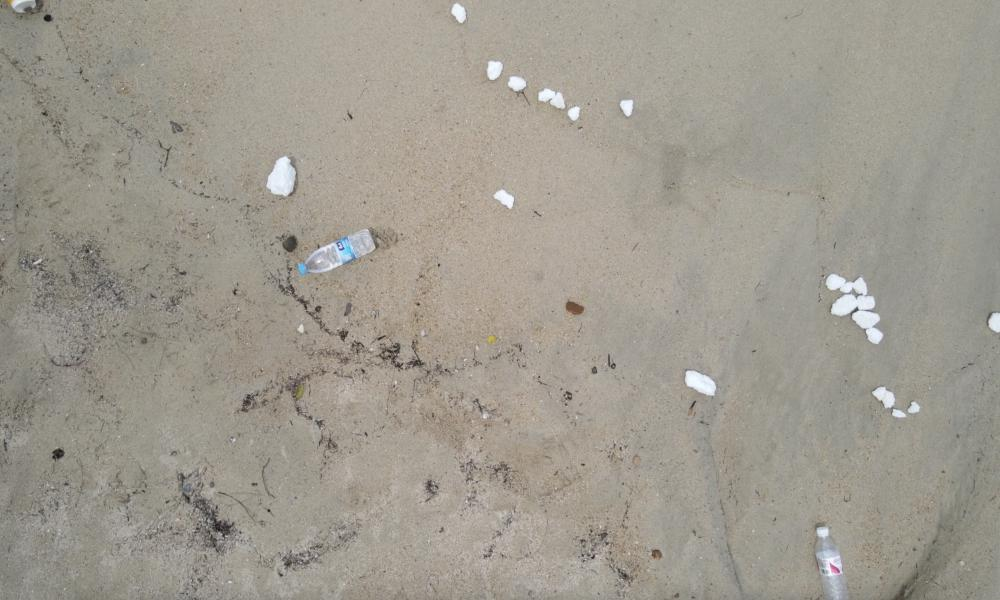plastic bottle: (298, 225, 378, 277), (810, 520, 846, 600)
styrofoam: (827, 272, 879, 346), (509, 72, 578, 120), (878, 385, 921, 420), (267, 154, 297, 199), (685, 370, 715, 394), (495, 186, 514, 207), (987, 309, 1000, 338), (619, 98, 637, 118), (488, 58, 503, 80), (455, 7, 465, 25)
